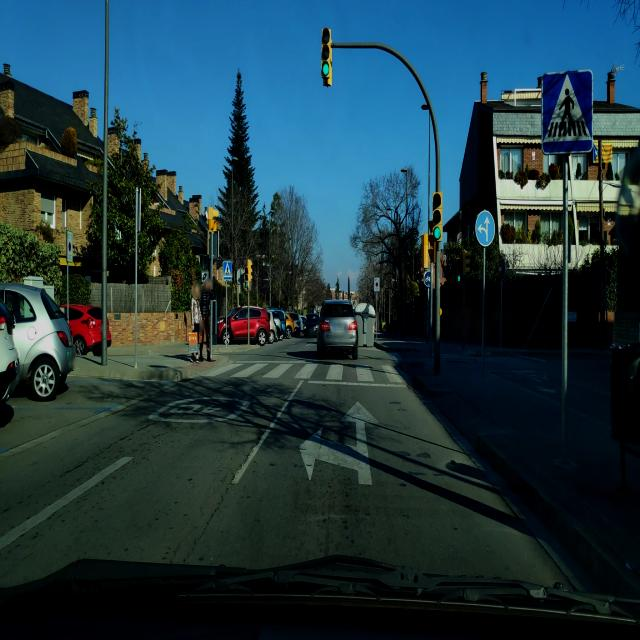car: (0, 280, 75, 402), (0, 284, 20, 446), (58, 302, 112, 357), (316, 298, 358, 359), (217, 304, 271, 346), (266, 307, 288, 337), (286, 309, 304, 335), (304, 312, 320, 338)
